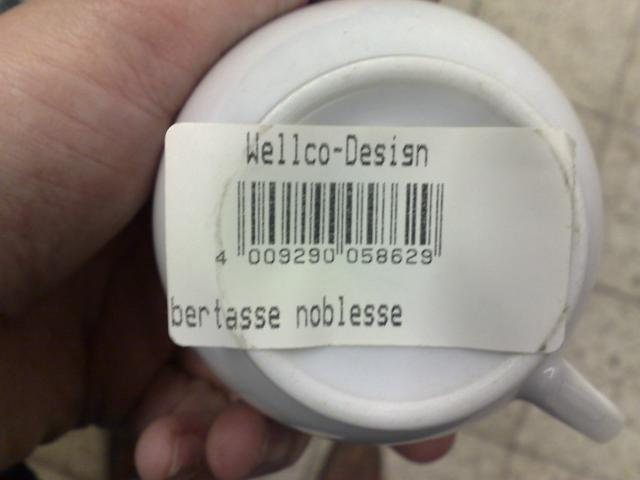Barcode: (208, 172, 458, 274)
